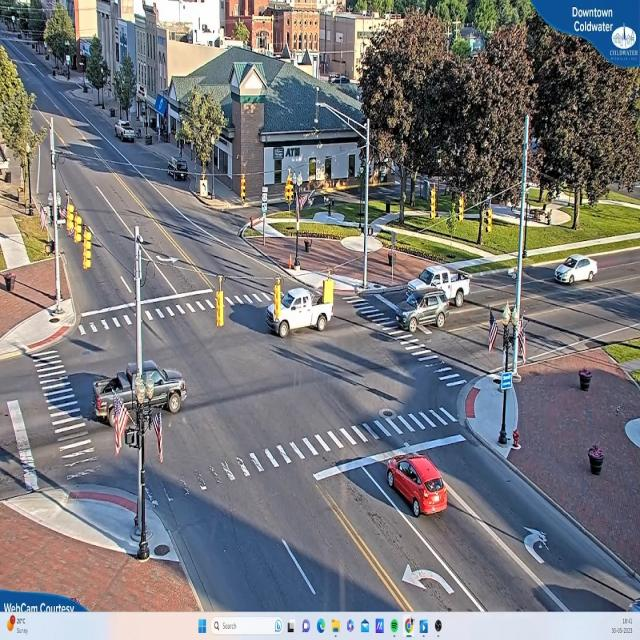car: (89, 356, 187, 428), (265, 285, 338, 344), (386, 455, 450, 519), (402, 260, 473, 311), (392, 288, 451, 334), (555, 254, 597, 285), (116, 122, 136, 142)
